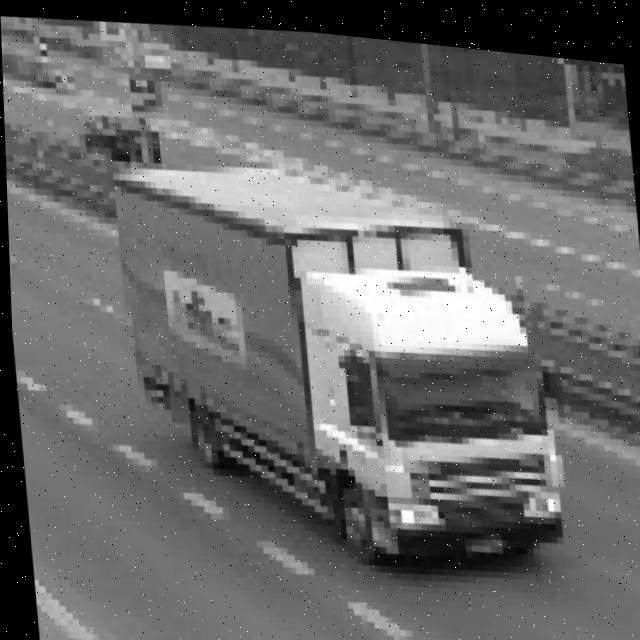truck: (287, 227, 597, 588)
